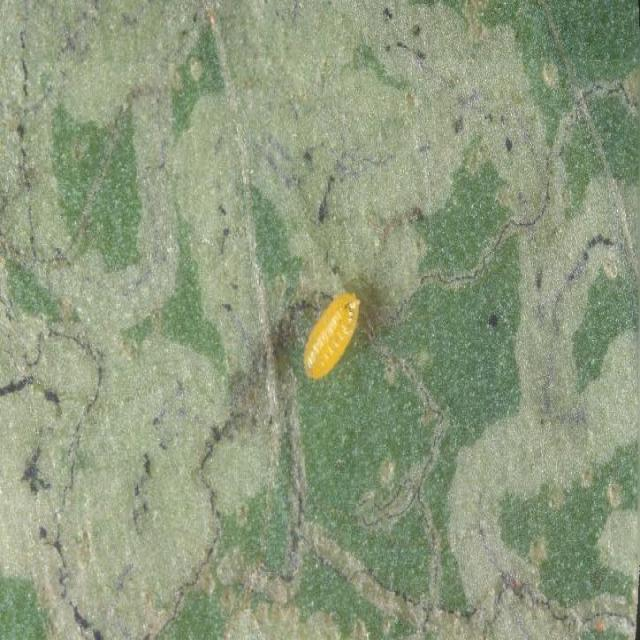Serpentine leafminer: (0, 1, 312, 640), (368, 283, 634, 637), (318, 2, 640, 276), (316, 476, 365, 640), (303, 278, 368, 392)
